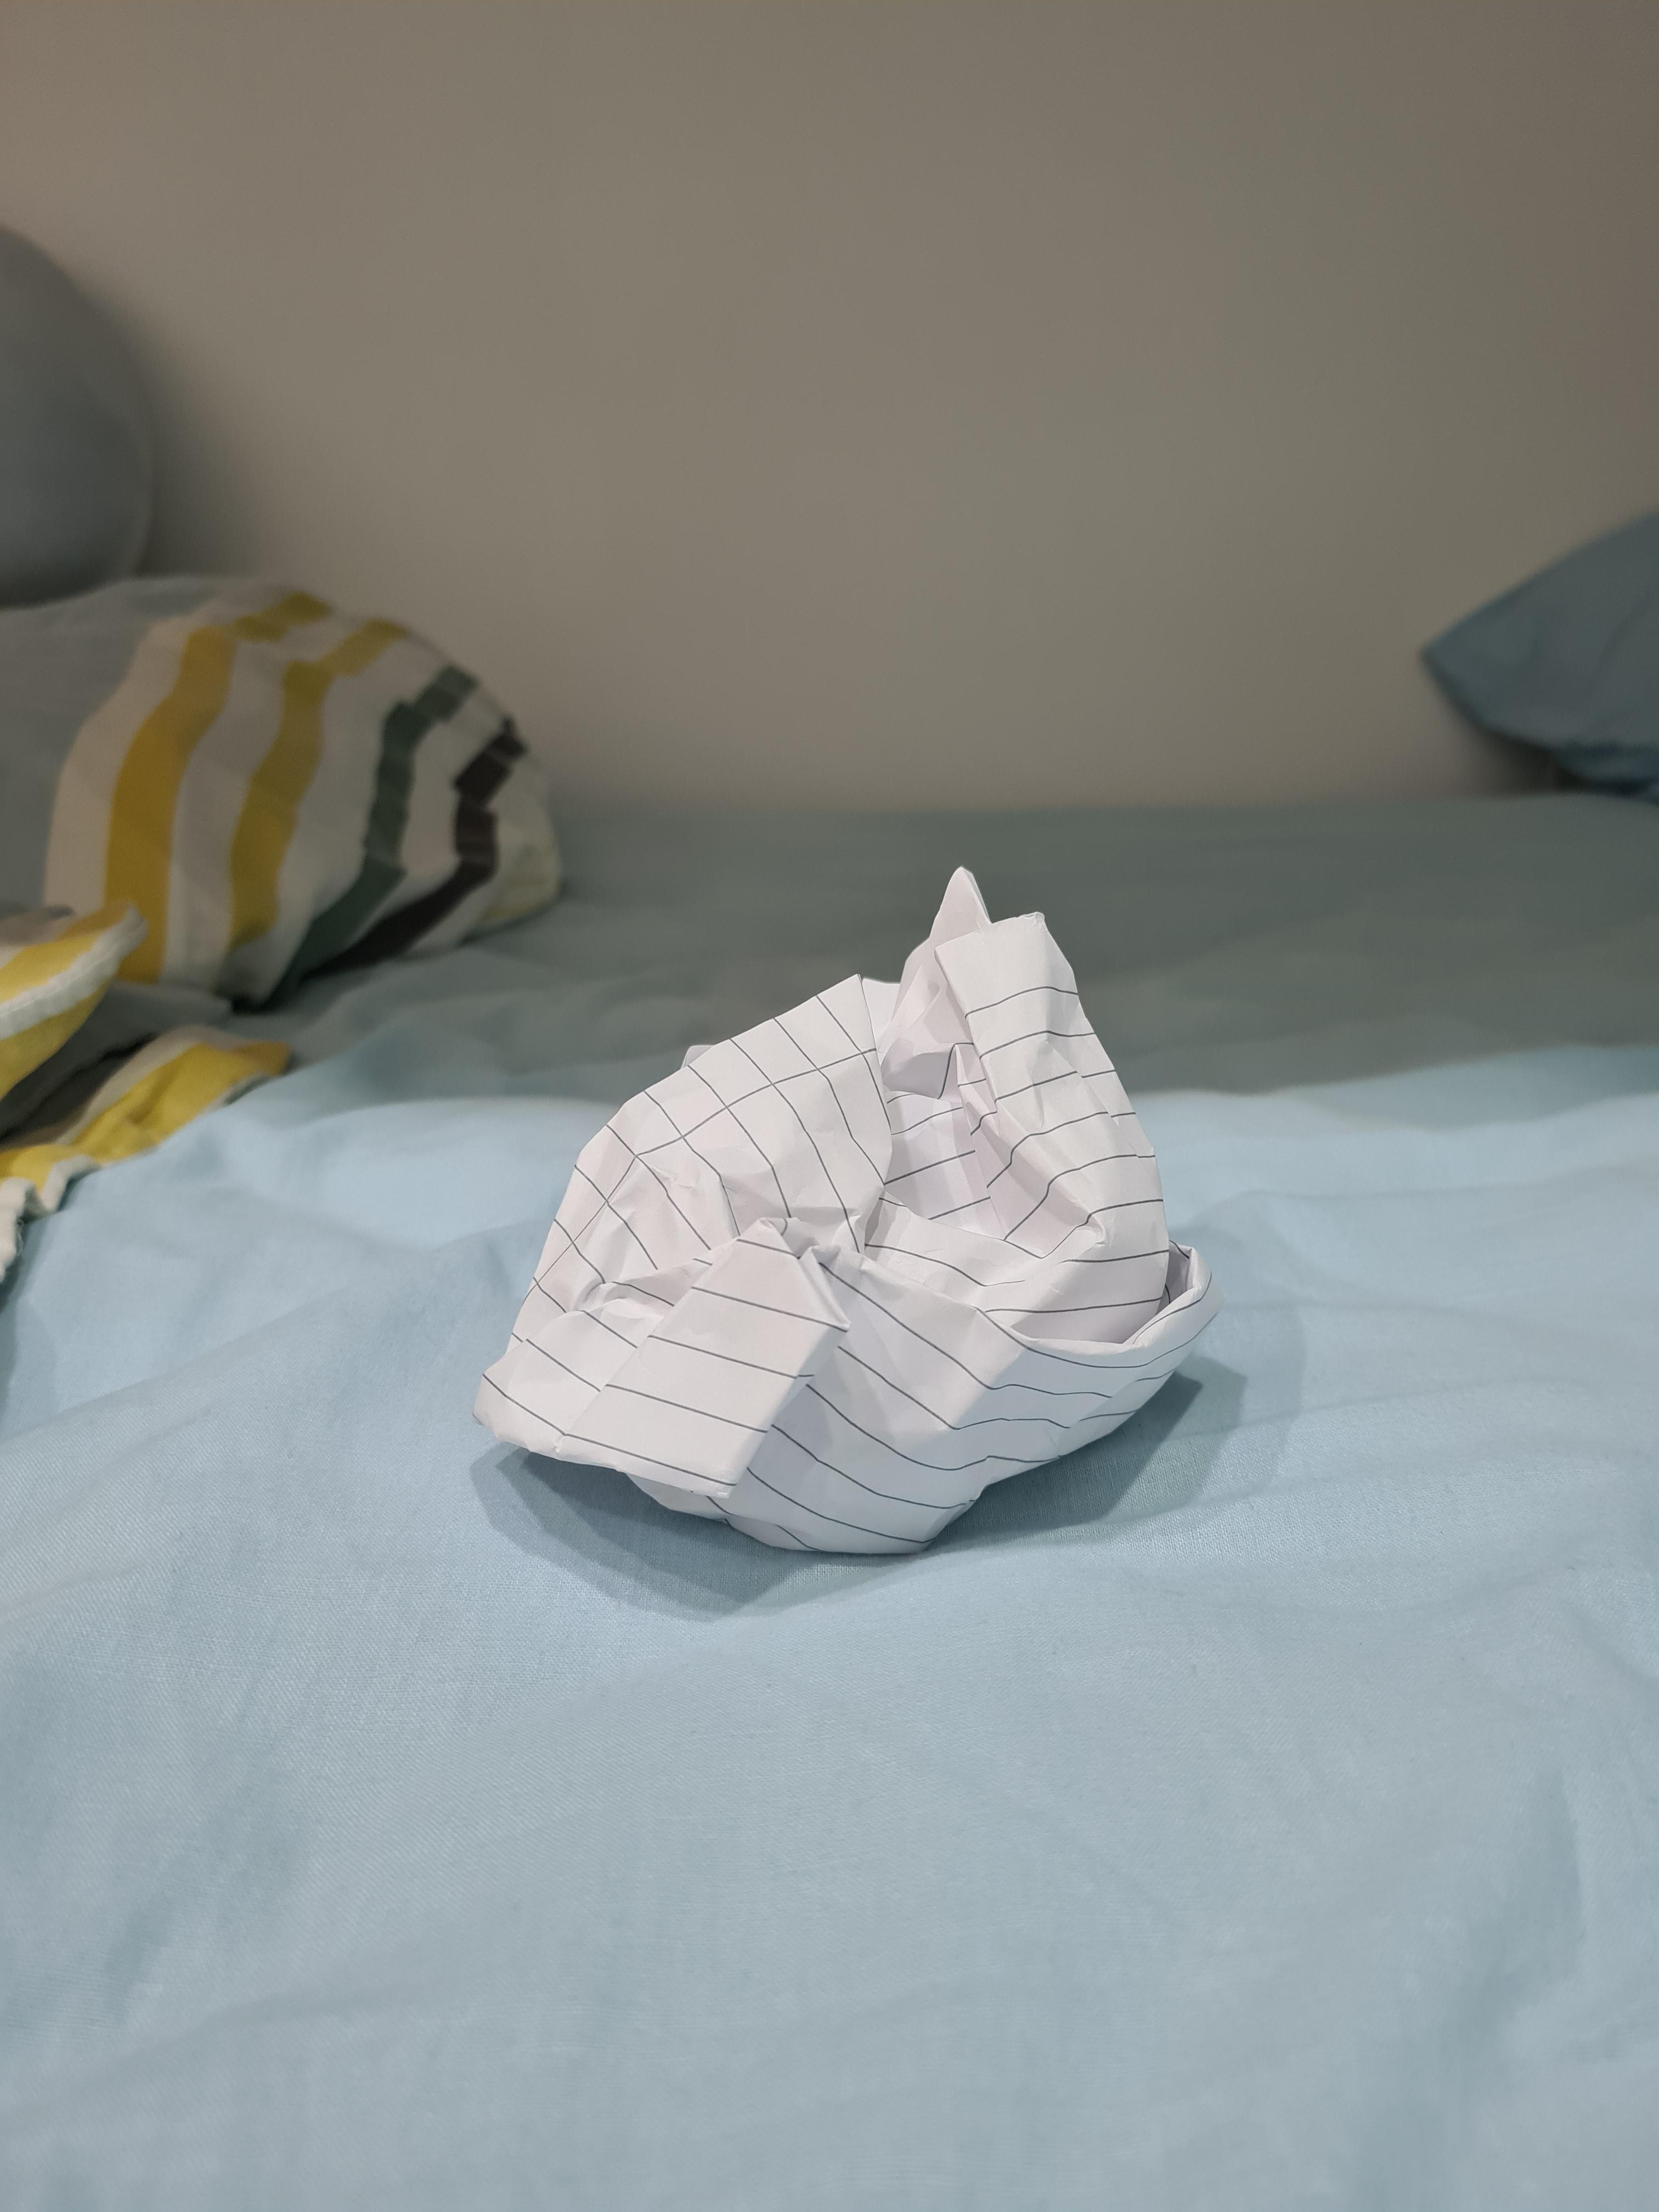Paper: (462, 879, 1242, 1582)
